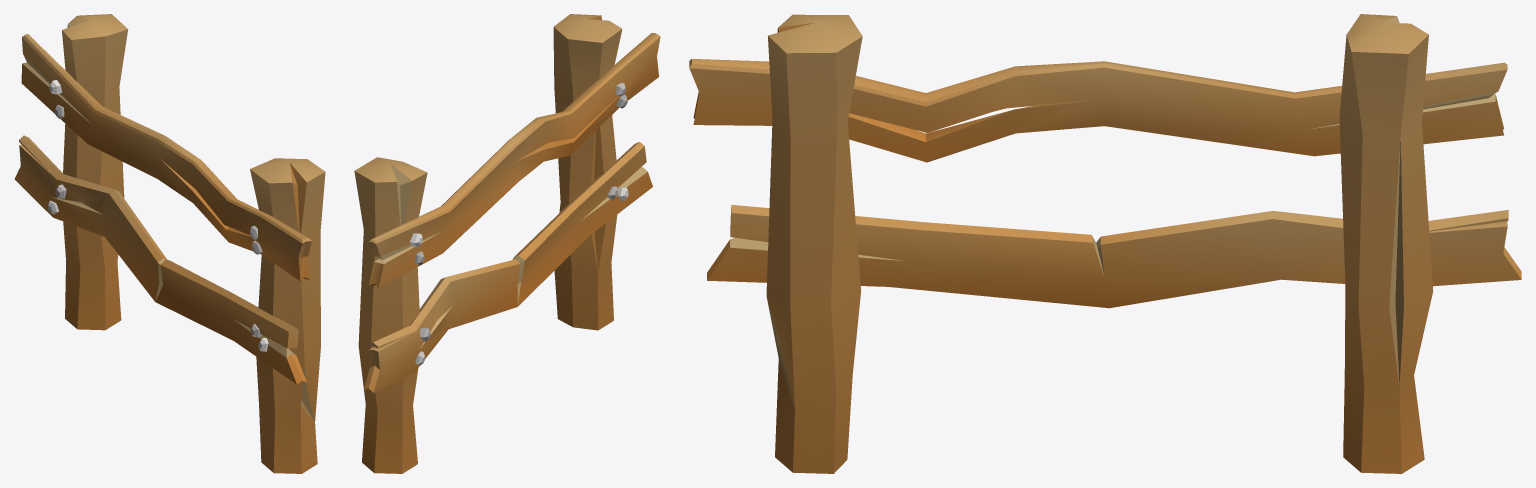
File: valla7.fbx
The picture shows the model from 3 angles, left to right: view 1: azimuth 30°, elevation 25°; view 2: azimuth 150°, elevation 25°; view 3: azimuth 270°, elevation 25°; orthographic projection. The views are drawn at different scales.
Parts seen in each view (by area): view 1: vallaNormal; view 2: vallaNormal; view 3: vallaNormal.
Boxes of the visible parts, box(x1,y1,x2,y2) form: vallaNormal: box(14, 14, 325, 473); vallaNormal: box(354, 14, 660, 473); vallaNormal: box(689, 14, 1521, 473).
Bounding box in the file's own units: 141 × 611 × 1058.
